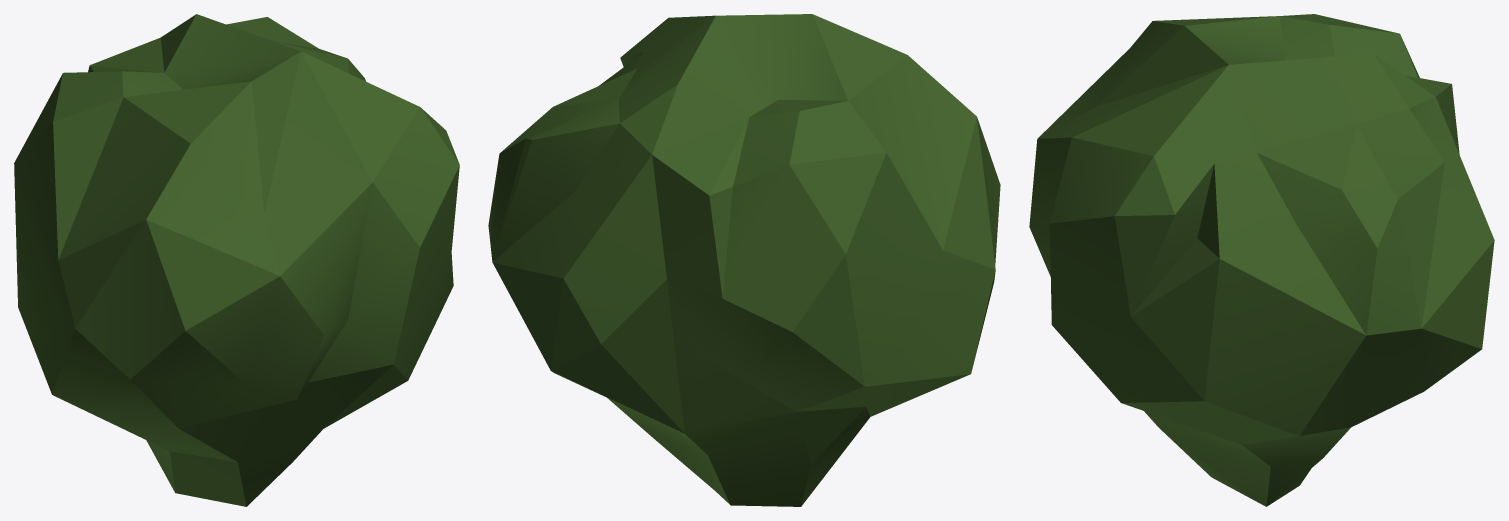
File: BroadleafK.fbx
3 views of the same model, side by side, from view 1: azimuth 30°, elevation 25°; view 2: azimuth 150°, elevation 25°; view 3: azimuth 270°, elevation 25° (orthographic). The views are drawn at different scales.
Visible parts, largest first — view 1: BroadLeafK; view 2: BroadLeafK; view 3: BroadLeafK.
Part boxes in pixels (x1,y1,x2,y2): BroadLeafK: [14, 14, 459, 506]; BroadLeafK: [488, 14, 1000, 506]; BroadLeafK: [1029, 14, 1494, 506].
Bounding box in the file's own units: 411 × 435 × 404.
